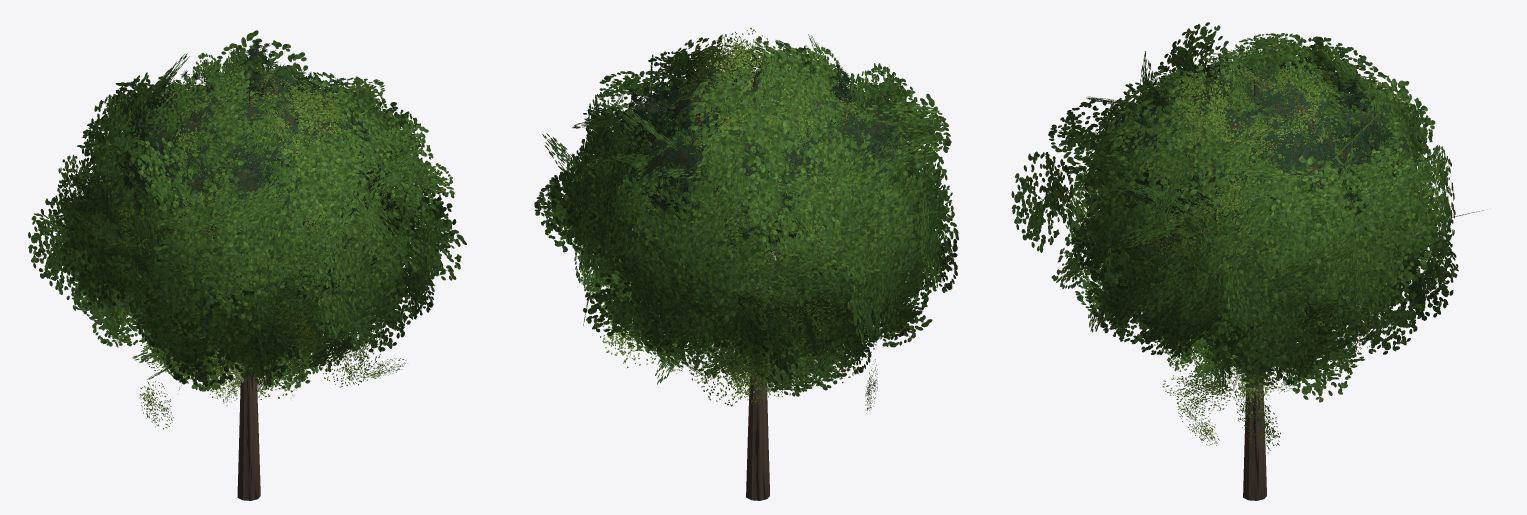
File: scenery-trees.ad3978765d.glb
3 views of the same model, side by side, from view 1: azimuth 30°, elevation 25°; view 2: azimuth 150°, elevation 25°; view 3: azimuth 270°, elevation 25° (orthographic). The views are drawn at different scales.
Parts seen in each view (by area): view 1: tree-broadleaf, tree-pine, tree-birch; view 2: tree-broadleaf, tree-pine, tree-birch; view 3: tree-broadleaf, tree-pine, tree-birch.
Boxes of the visible parts, x1=… form: tree-broadleaf: x1=28, y1=30, x2=466, y2=500; tree-pine: x1=107, y1=40, x2=428, y2=330; tree-birch: x1=105, y1=48, x2=407, y2=429; tree-broadleaf: x1=534, y1=34, x2=958, y2=500; tree-pine: x1=602, y1=45, x2=916, y2=327; tree-birch: x1=600, y1=27, x2=903, y2=413; tree-broadleaf: x1=1011, y1=22, x2=1483, y2=500; tree-pine: x1=1084, y1=46, x2=1409, y2=323; tree-birch: x1=1105, y1=42, x2=1383, y2=453.
Bounding box in the file's own units: 9.75 × 10.81 × 10.75.
Materials: 2 (2 with a texture image).
